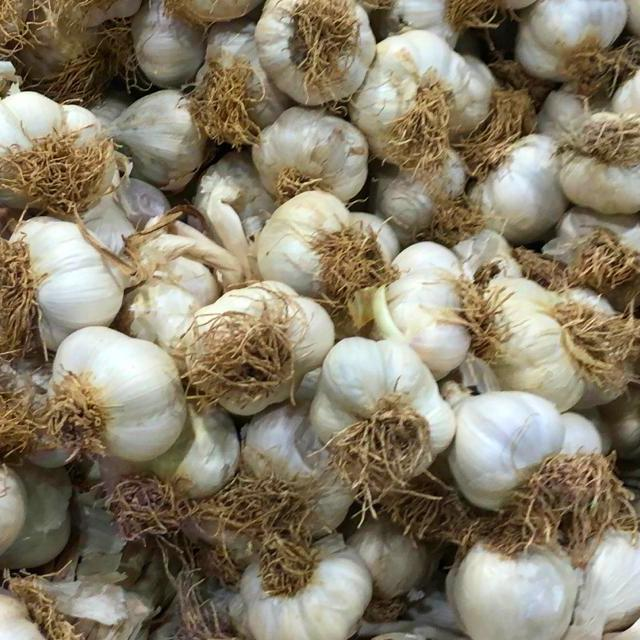garlic: (242, 0, 385, 115), (555, 102, 640, 215)
